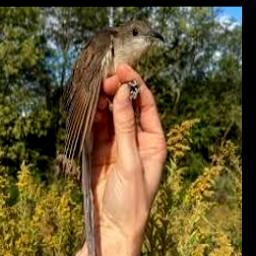Cuckoo: (61, 18, 164, 256)
